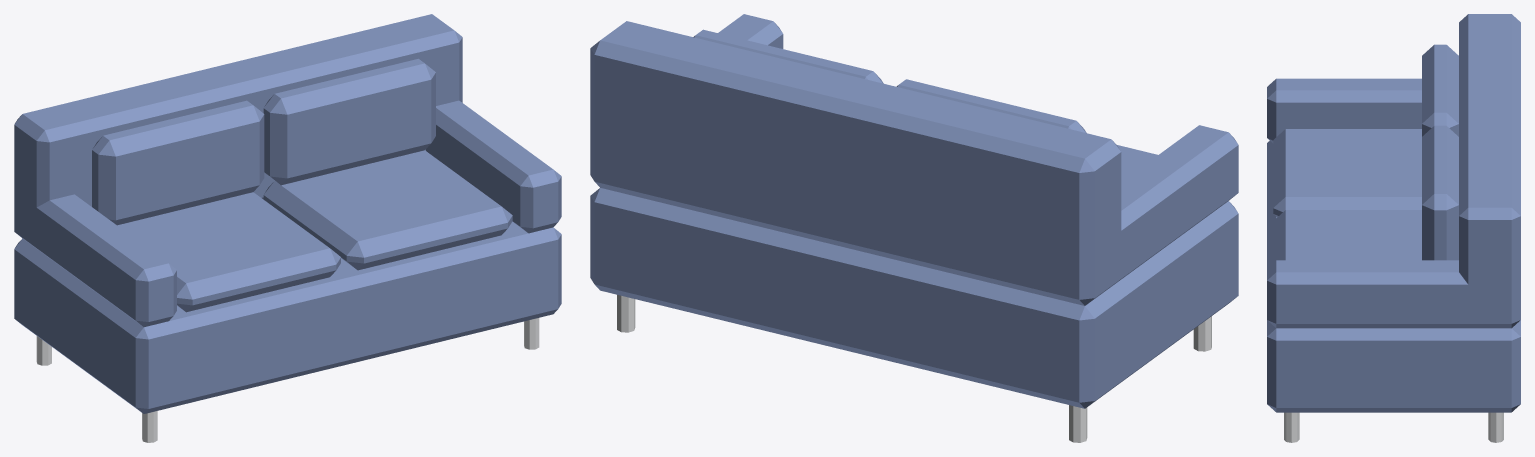
The model's file is sofa.glb.
The picture shows the model from 3 angles, left to right: view 1: azimuth 30°, elevation 25°; view 2: azimuth 150°, elevation 25°; view 3: azimuth 270°, elevation 25°; orthographic projection. The views are drawn at different scales.
Visible parts, largest first — view 1: sofa_fabric2, sofa_chrome; view 2: sofa_fabric2, sofa_chrome; view 3: sofa_fabric2, sofa_chrome.
Part boxes in pixels (<box>): sofa_fabric2: <box>14,14,561,413</box>; sofa_chrome: <box>36,318,539,442</box>; sofa_fabric2: <box>590,14,1238,408</box>; sofa_chrome: <box>617,295,1211,442</box>; sofa_fabric2: <box>1267,14,1520,412</box>; sofa_chrome: <box>1284,412,1503,442</box>.
Size of the model in its own units: 1.54 by 0.85 by 0.82.
